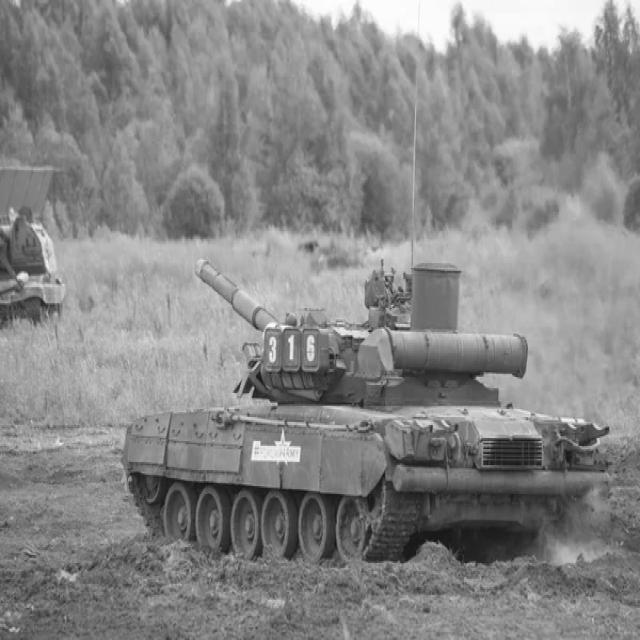Tank: (119, 252, 614, 565)
